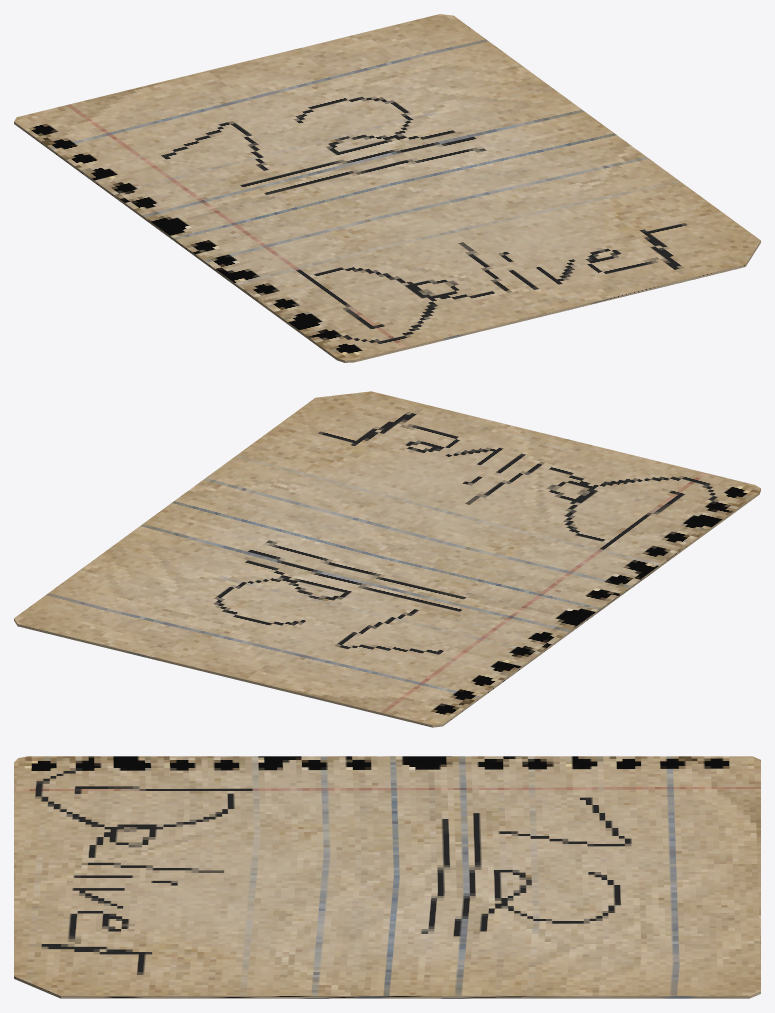
File: note.glb
3 renders of one model, top to bottom at view 1: azimuth 30°, elevation 25°; view 2: azimuth 150°, elevation 25°; view 3: azimuth 270°, elevation 25°, orthographic. The views are drawn at different scales.
Visible parts, largest first — view 1: Cube; view 2: Cube; view 3: Cube.
Boxes of the visible parts, x1,y1,x2,y2 form: Cube: (14,14,760,362); Cube: (14,391,760,727); Cube: (14,756,760,998).
Size of the model in its own units: 2 by 0.0102 by 2.63.
2 materials, 2 textured.
